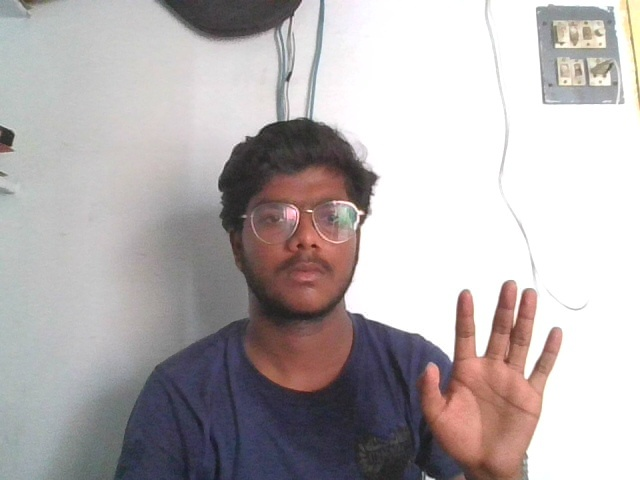Hello: (418, 277, 565, 467)
